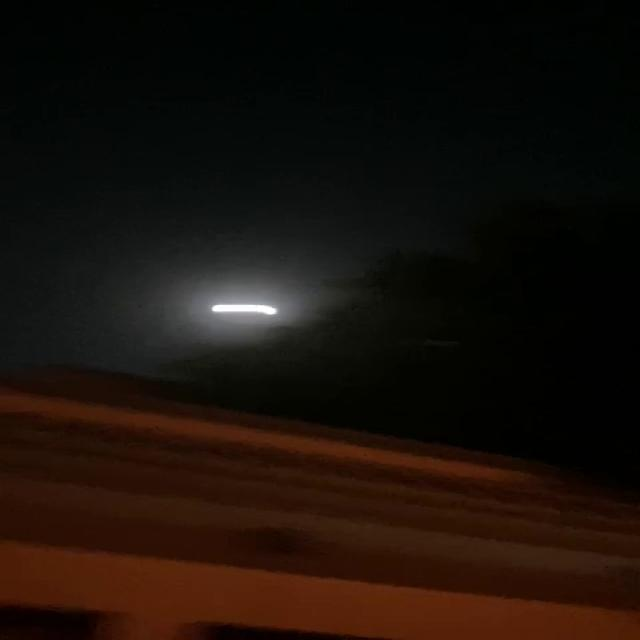moon: (199, 295, 279, 321)
